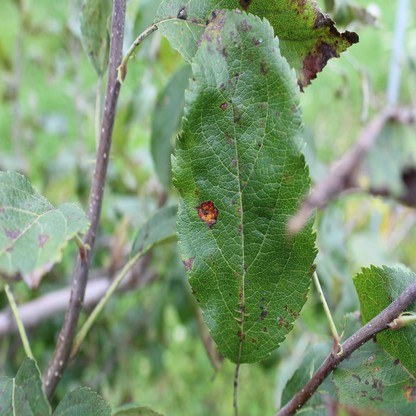rust: (304, 42, 340, 82), (196, 200, 217, 224), (403, 384, 416, 402)
